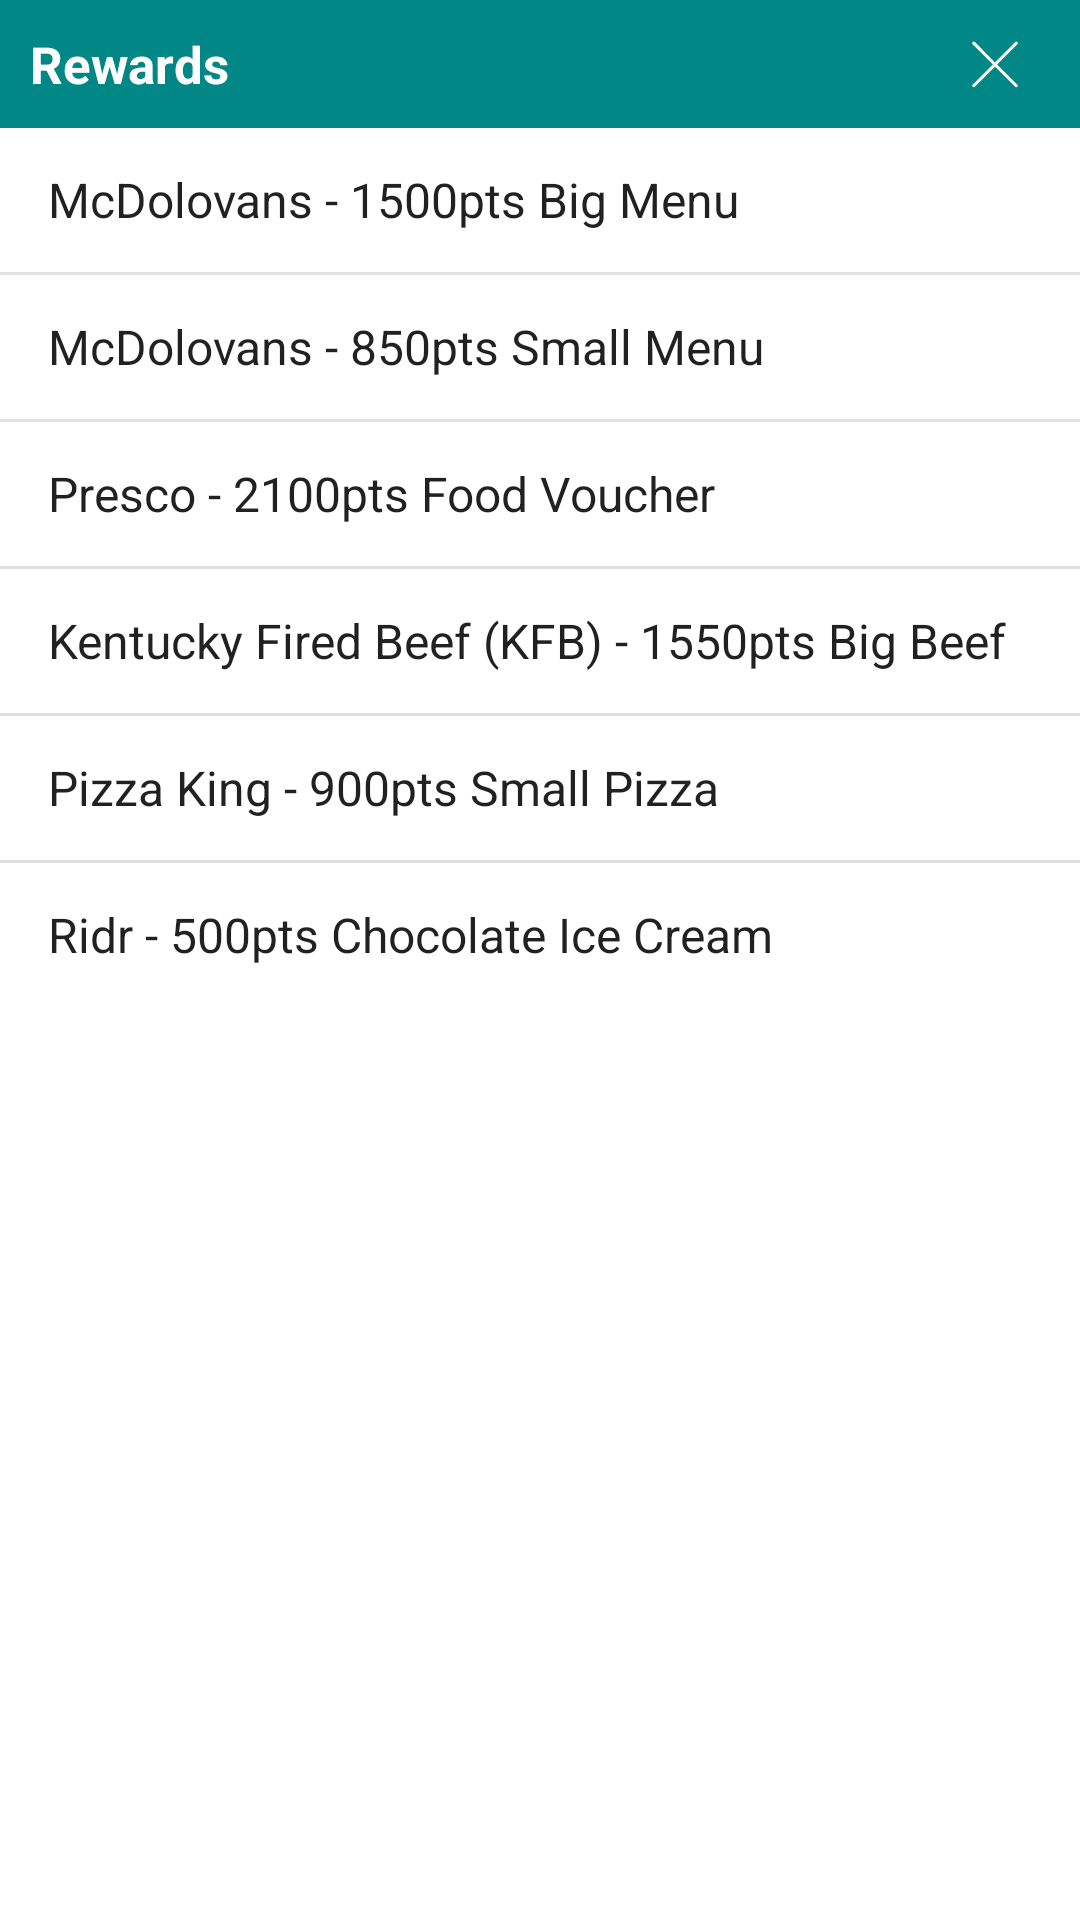

Where icons sit on this 1080×1920 app screen, as {"x1": x1, "y1": y1, "x2": x2, "y2": y2}:
close: {"x1": 972, "y1": 41, "x2": 1018, "y2": 88}
